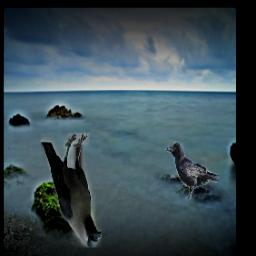Crow: (42, 133, 103, 248), (166, 142, 220, 201)
